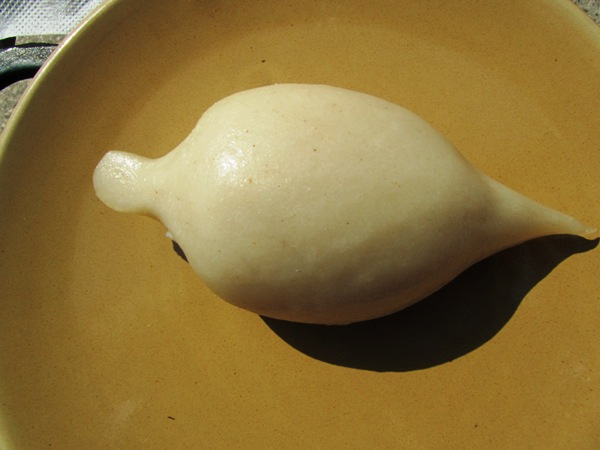yomari: (90, 83, 591, 326)
